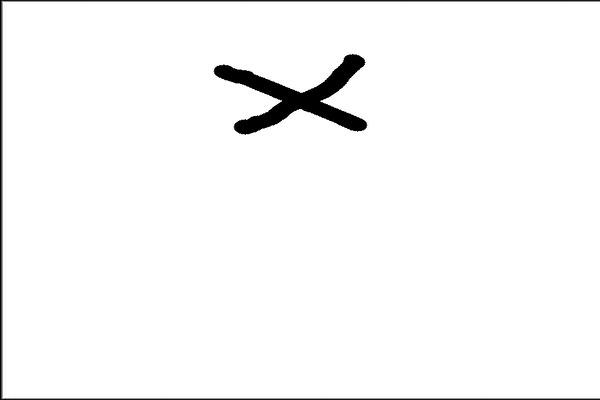X: (179, 45, 391, 150)
